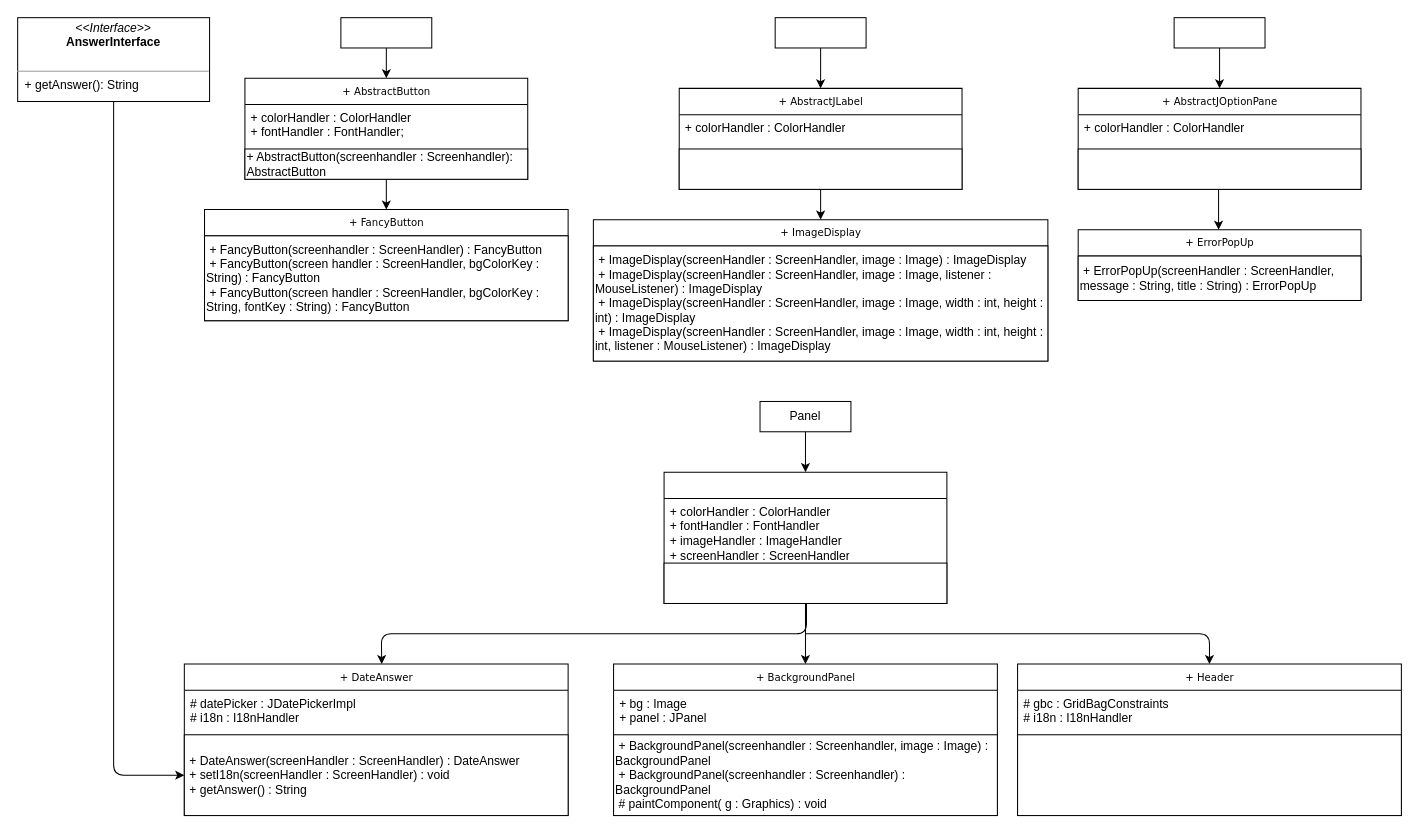
Some shapes in this 1419 by 833 pixel diagram are drawn without their labels. Each missing label, with the box of its shape:
+ AbstractJLabel(screenHandler : ScreenHandler) : AbstractJLabel: (678, 148, 962, 189)
+ AbstractJOptionPane(screenHandler : ScreenHandler) : AbstractJOptionPane: (1077, 148, 1361, 189)
+ AbstractJPanel(screenHandler : ScreenHandler) : AbstractJPanel: (663, 562, 947, 603)
+ AbstractPanel: (663, 471, 947, 603)
+ Header(screenHandler : ScreenHandler: (1017, 734, 1401, 816)
JButton: (340, 17, 432, 48)
JLabel: (774, 17, 866, 48)
JOptionPane: (1173, 17, 1265, 48)
